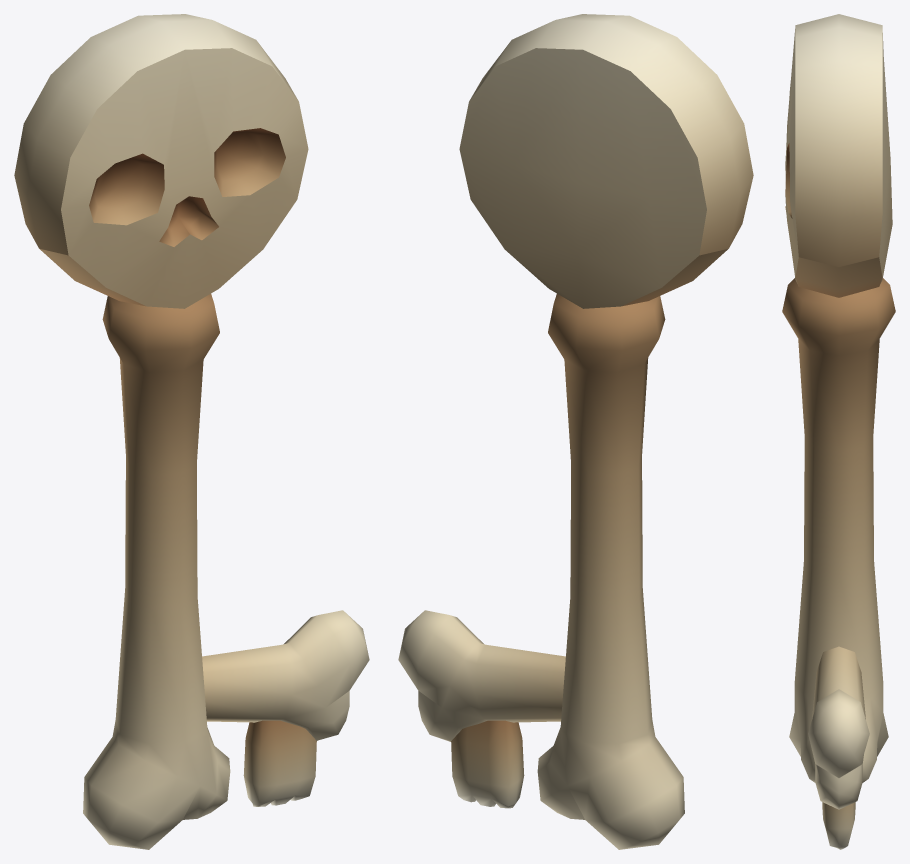
File: Bone_Key_03.glb
3 views of the same model, side by side, from view 1: azimuth 30°, elevation 25°; view 2: azimuth 150°, elevation 25°; view 3: azimuth 270°, elevation 25° (orthographic). The views are drawn at different scales.
Parts seen in each view (by area): view 1: Bone_Key_03; view 2: Bone_Key_03; view 3: Bone_Key_03.
Boxes of the visible parts, x1=… form: Bone_Key_03: x1=14, y1=14, x2=369, y2=849; Bone_Key_03: x1=398, y1=14, x2=753, y2=849; Bone_Key_03: x1=782, y1=14, x2=895, y2=849.
Size of the model in its own units: 0.407 by 0.9428 by 0.1271.
Materials: 1 (1 with a texture image).
